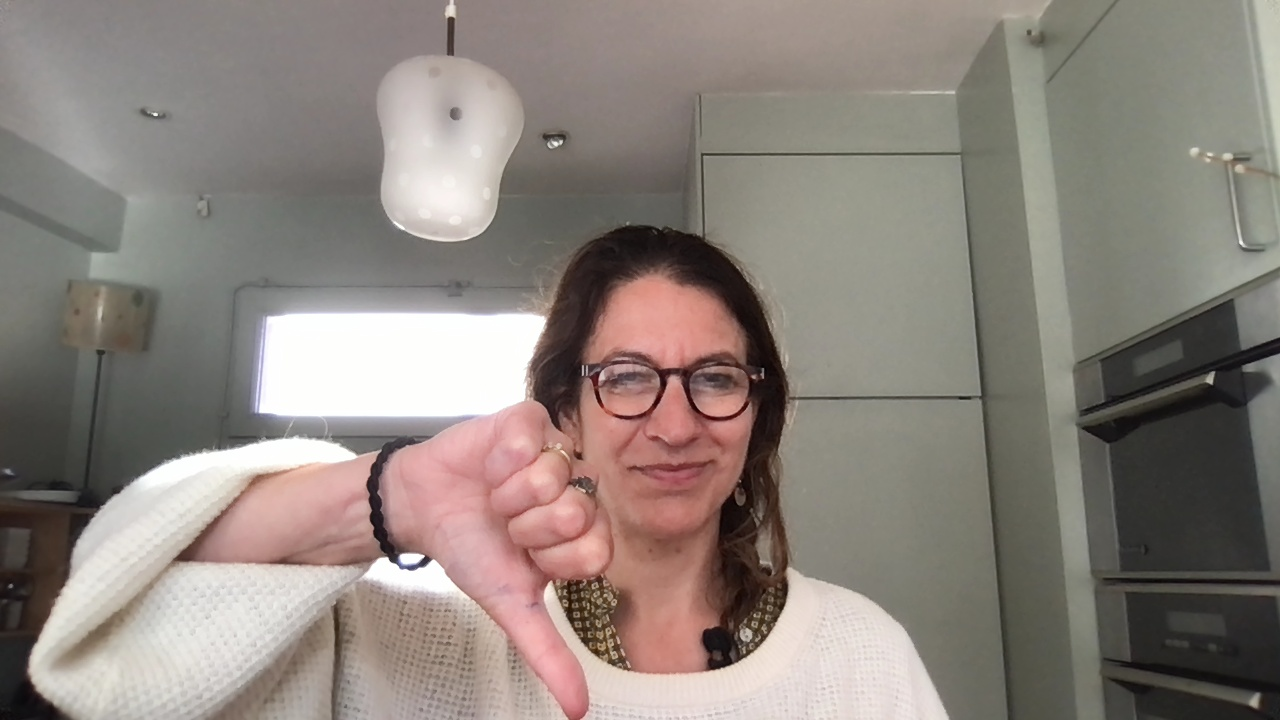thumbDown: (407, 399, 615, 720)
